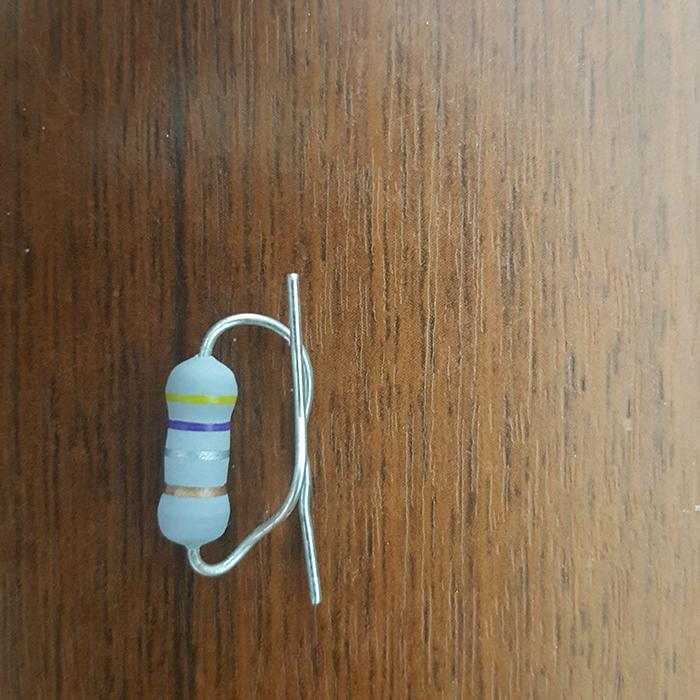resistor: (155, 351, 238, 551)
